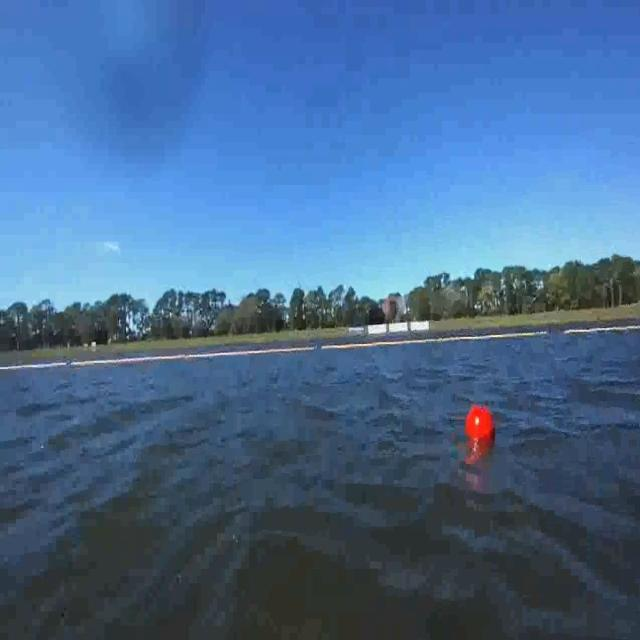red-buoy: (464, 406, 492, 442)
